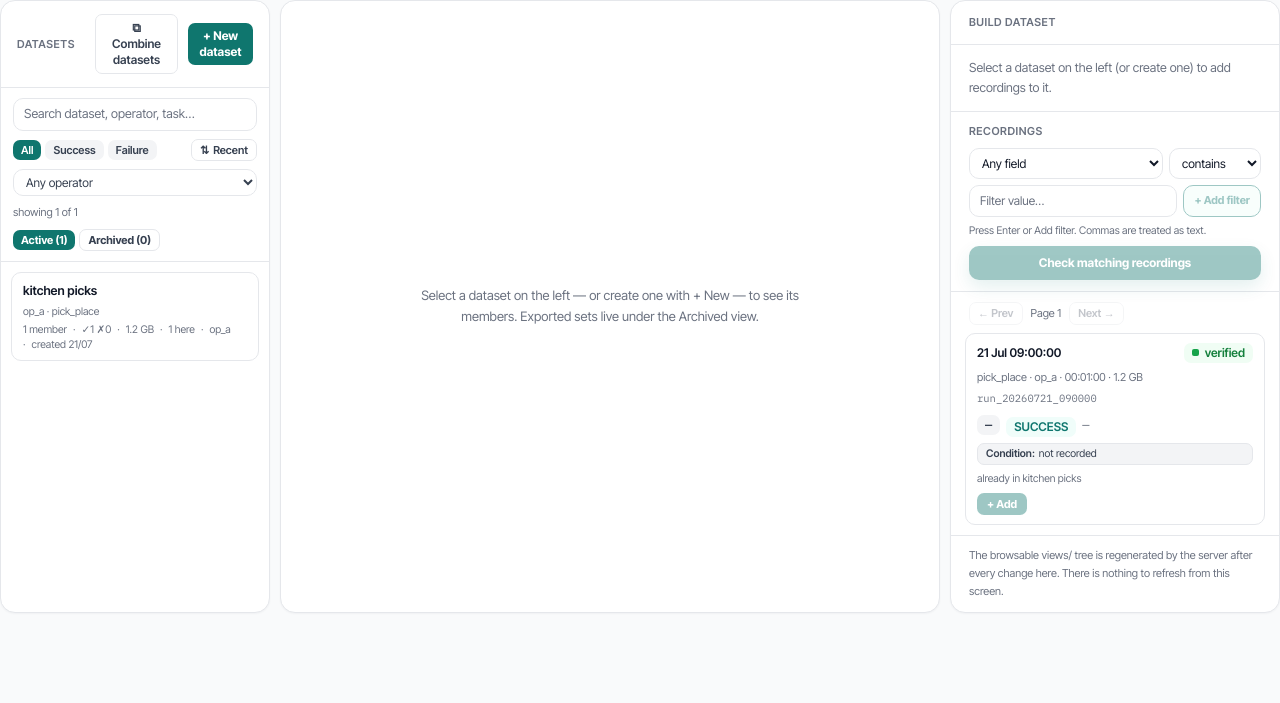
E-19a: a dataset merely hidden by the search is NOT reported as gone
The width and height of the screenshot is (1280, 703).
Step 1. Click the button that starts with "kitchen picks" → (135, 317), box top-left (11, 272), bottom-right (259, 361)
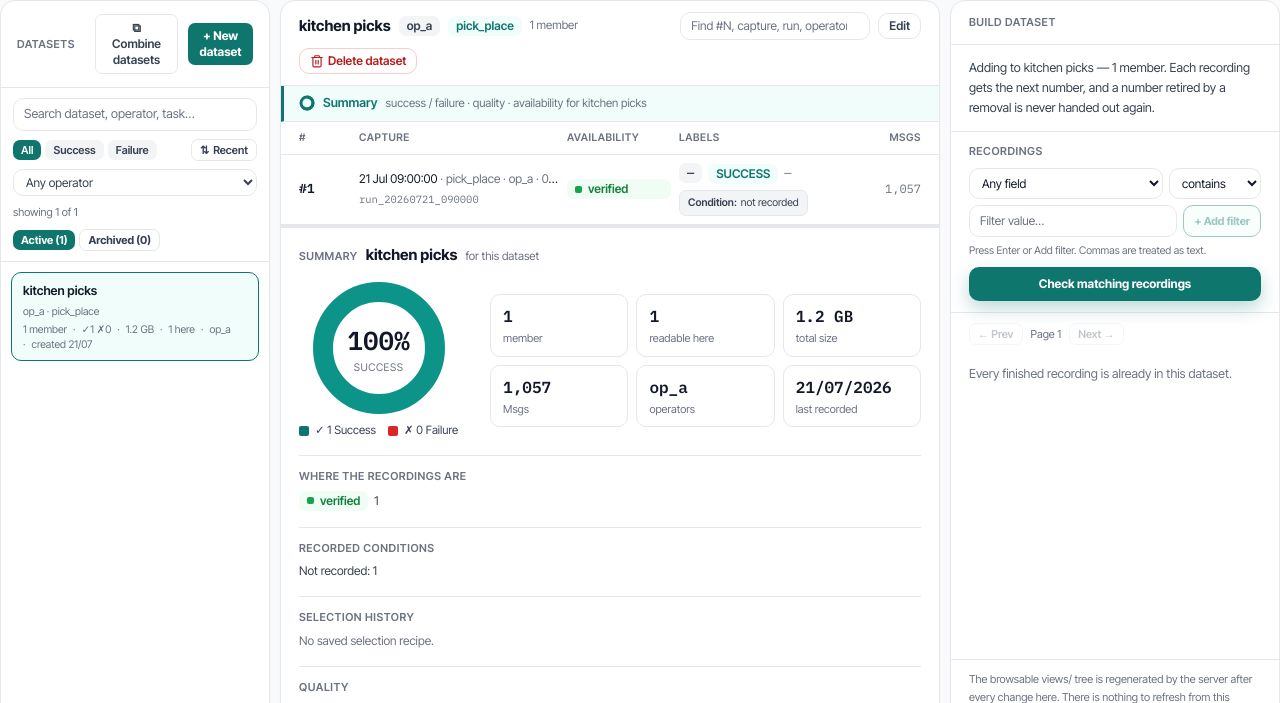
Step 2. Type "zzz" into the search field with test id "dataset-search" → (135, 114), box top-left (13, 98), bottom-right (257, 131)
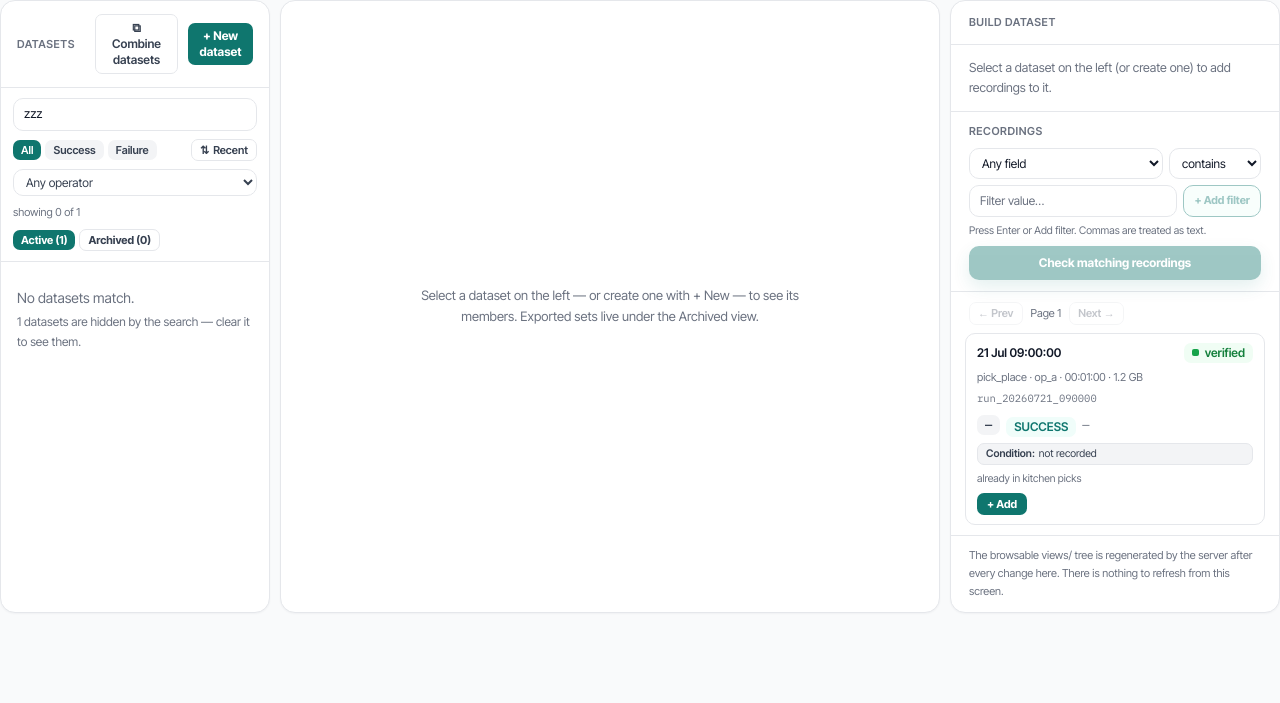
Expected: the text with test id "dataset-none-selected" is shown, top-left (400, 285), bottom-right (820, 328)
